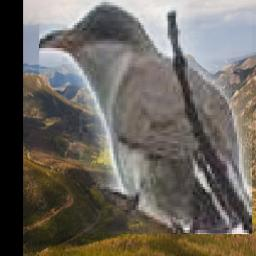Cuckoo: (39, 0, 252, 235)
